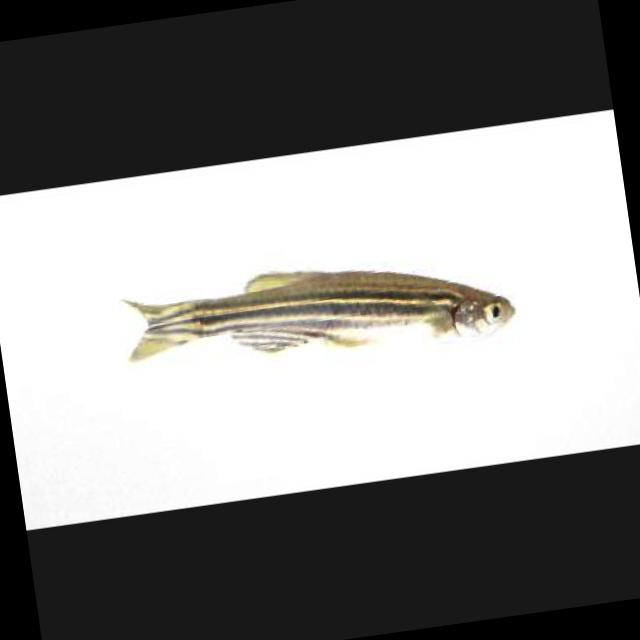ZebraFish: (118, 234, 519, 384)
